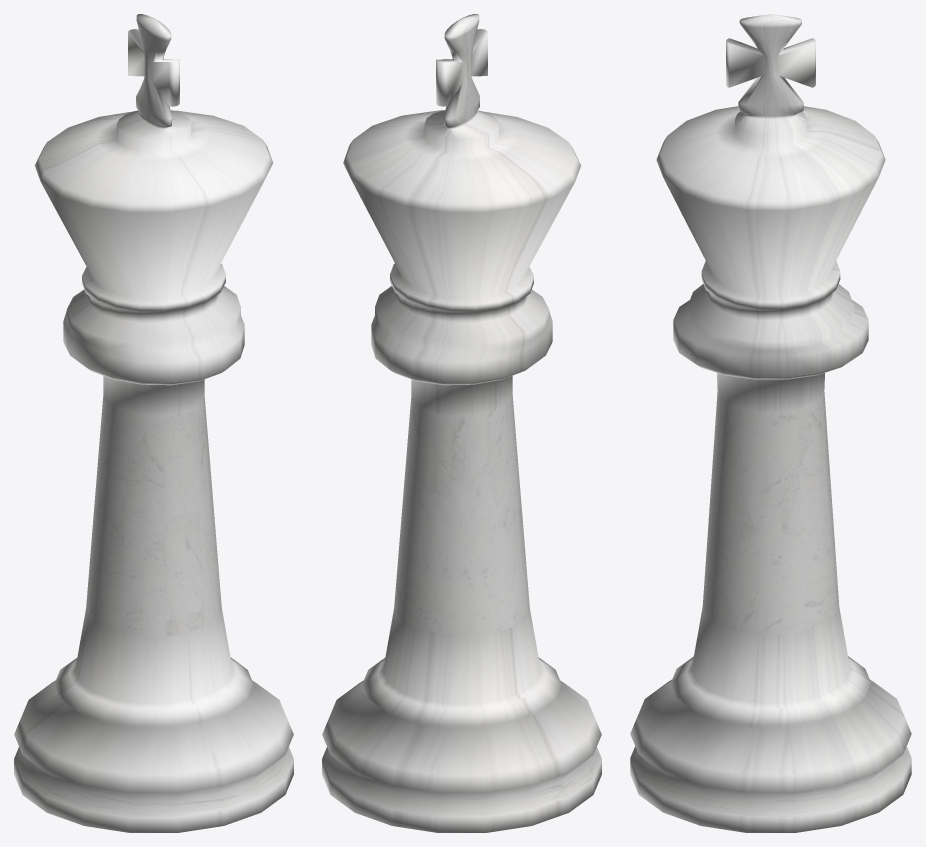
File: w-king-stone.gltf
3 views of the same model, side by side, from view 1: azimuth 30°, elevation 25°; view 2: azimuth 150°, elevation 25°; view 3: azimuth 270°, elevation 25° (orthographic).
Visible parts, largest first — view 1: W_King; view 2: W_King; view 3: W_King.
Part boxes in pixels (x1,y1,x2,y2): W_King: (14, 14, 293, 832); W_King: (322, 14, 601, 832); W_King: (630, 14, 911, 832).
Size of the model in its own units: 48.6 by 149 by 49.35.
Materials: 1 (1 with a texture image).
